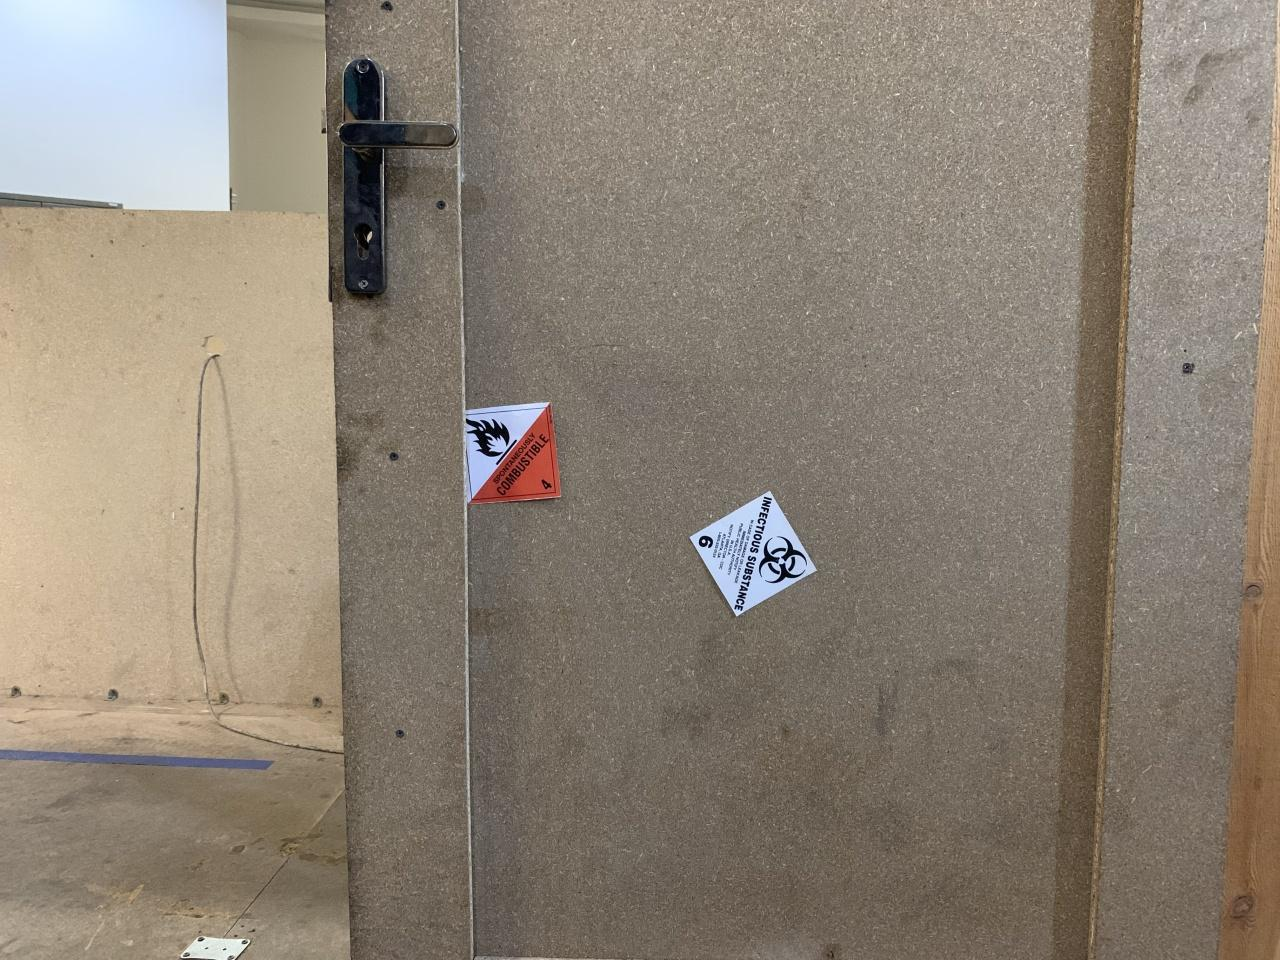infectious-substance: (694, 492, 817, 621)
spontaneously-combustible: (462, 407, 561, 505)
